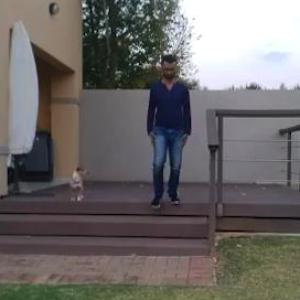follow: (154, 56, 193, 213)
